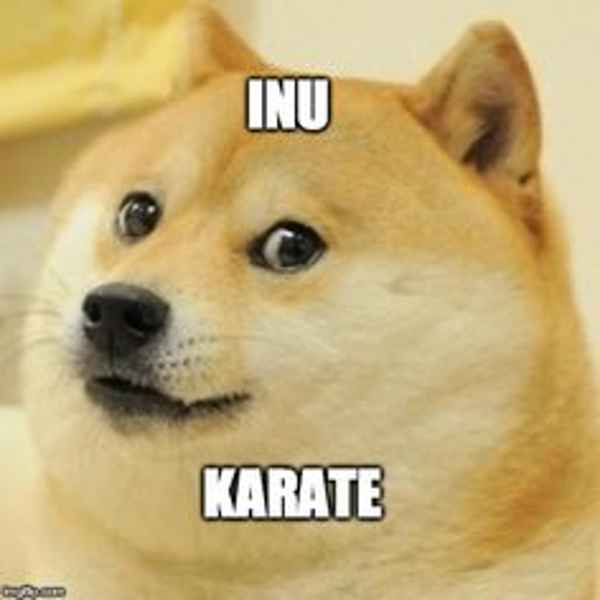doge: (36, 44, 549, 541)
